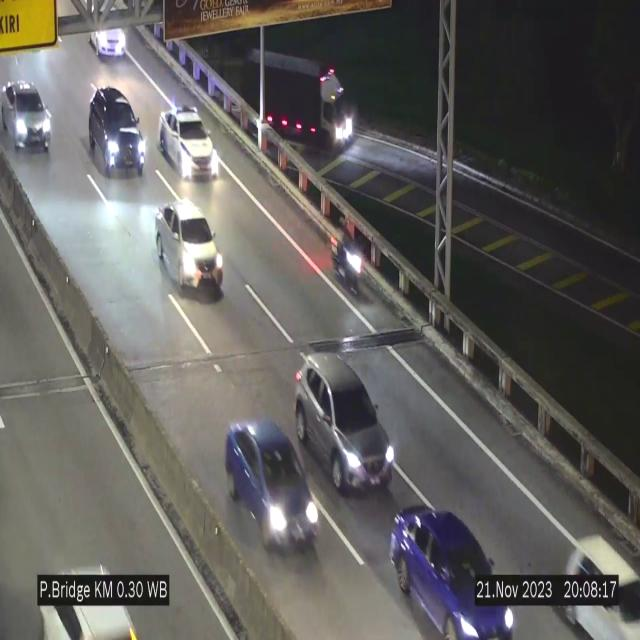Car: (390, 505, 514, 638), (295, 355, 394, 493), (225, 420, 323, 554), (30, 549, 156, 640), (560, 522, 640, 640), (156, 200, 223, 297), (88, 87, 146, 175), (160, 104, 217, 178), (2, 81, 52, 151), (88, 20, 130, 66)
Motorcycle: (333, 220, 363, 306)
Truck: (243, 43, 355, 157)
